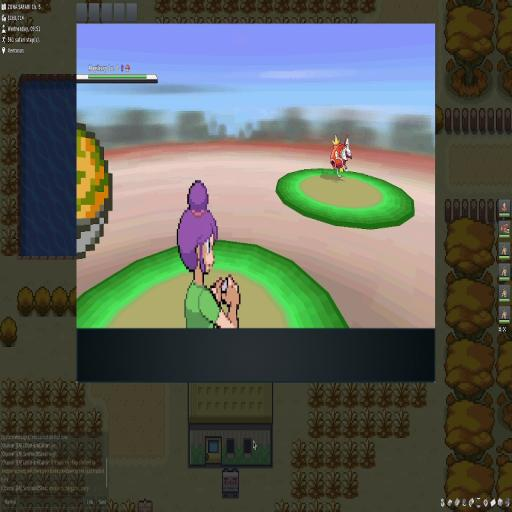MAGIKARP: (329, 135, 354, 180)
